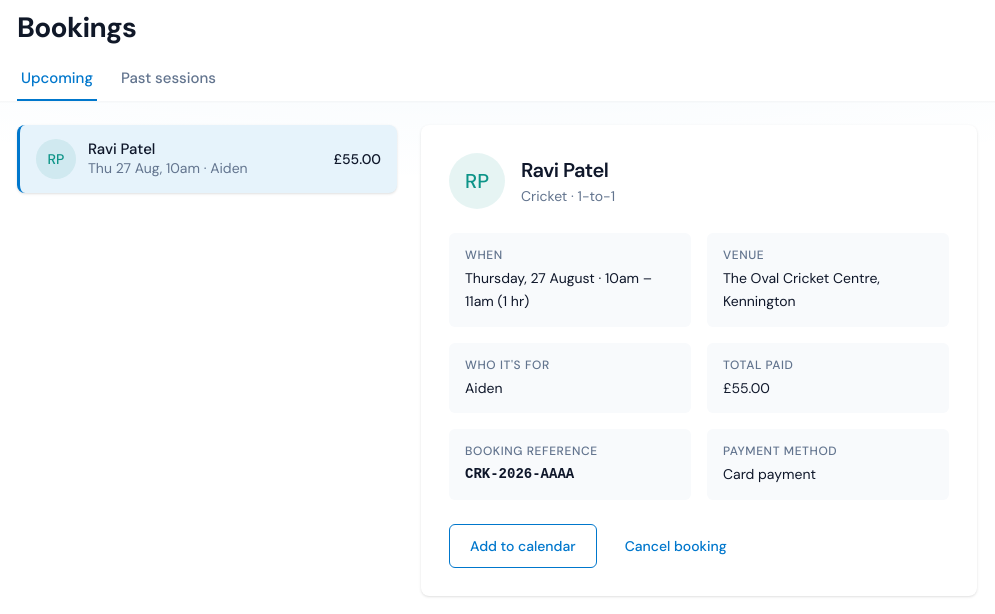
it: ParentBookingsClient › switches to Past sessions on tab click
Click the tab "Past sessions" at (168, 79), box [117,57,220,101]
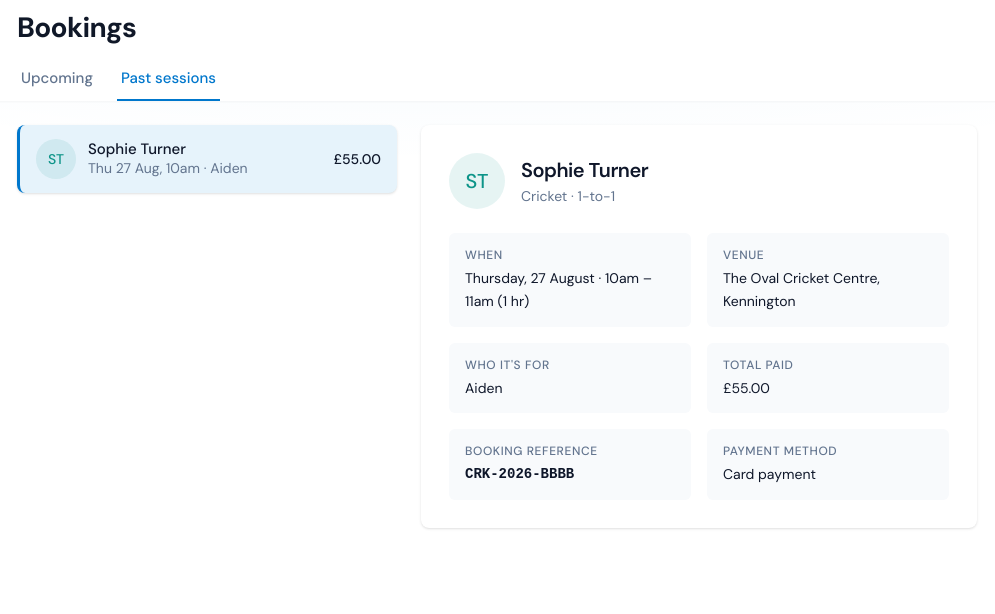
expect no buttons "Ravi Patel" are shown: met
